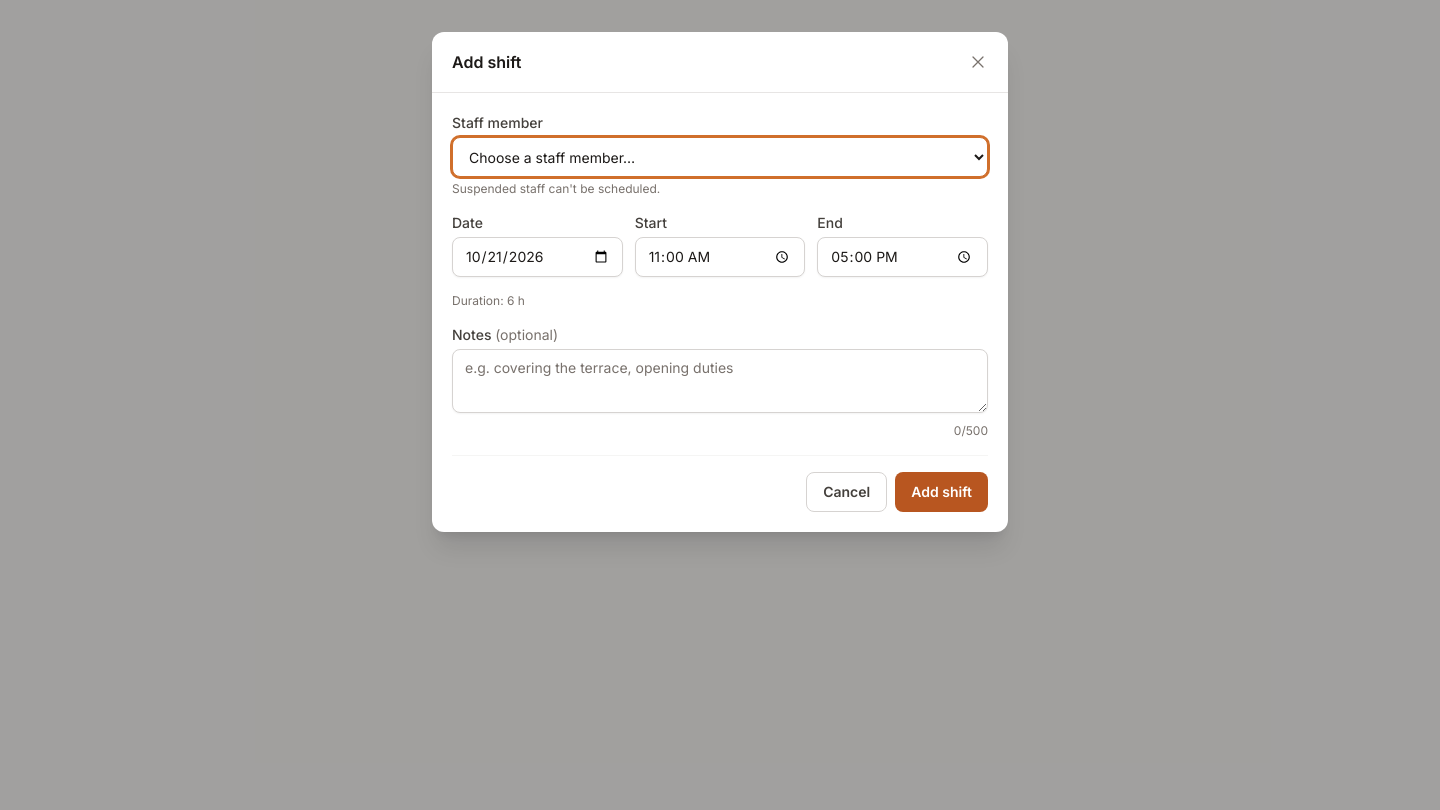
it: ShiftForm — adding a shift › warns when the end time is not after the start time
The image size is (1440, 810).
Replace the text in the time field labelled "End" with "08:00" at point(903, 257), box [817,237,988,277]
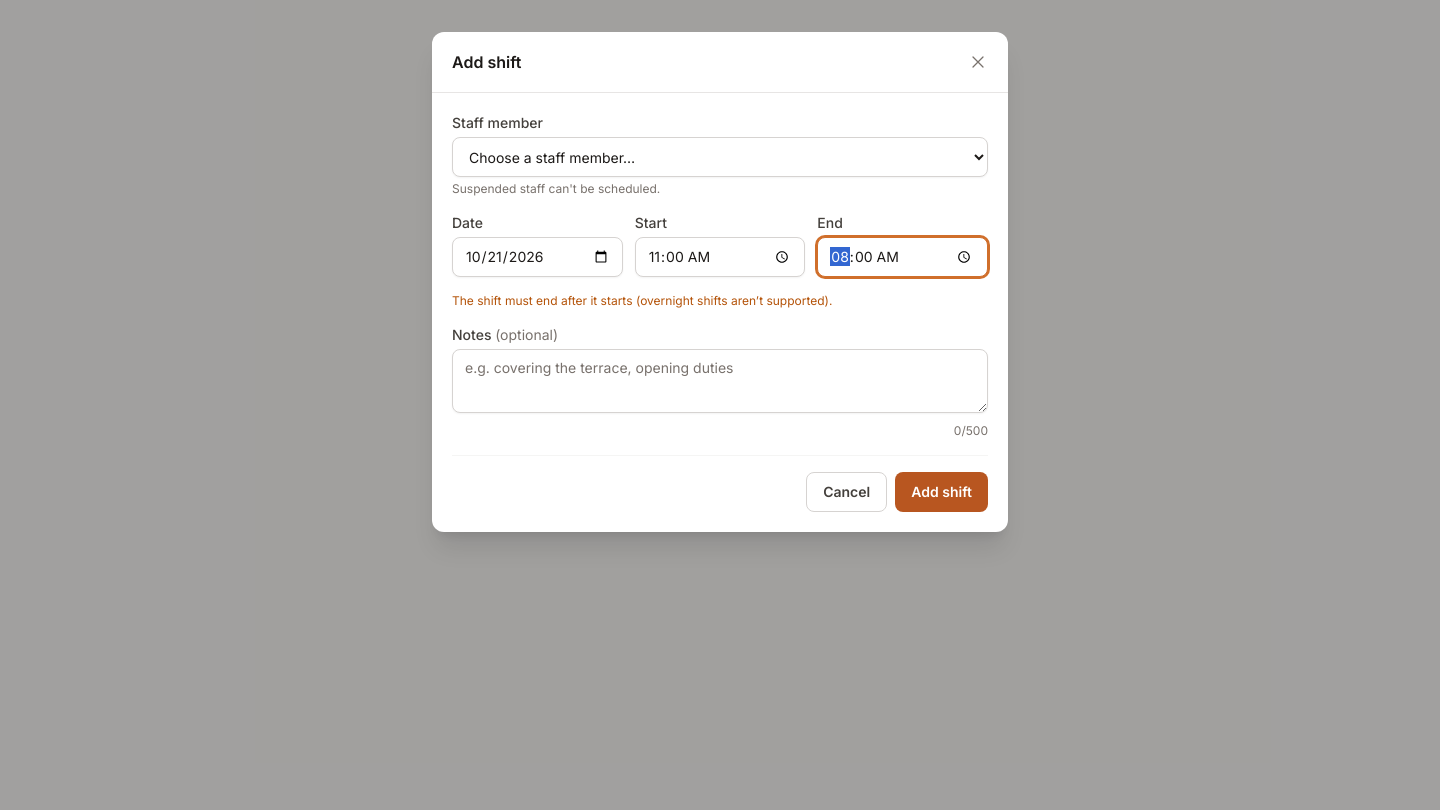
Check: the text "must end after it starts" is shown, box [452,293,832,308]
